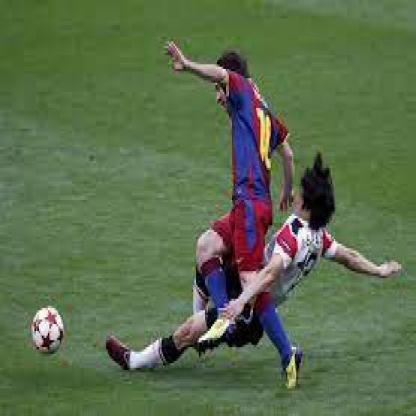Fall_Down: (108, 158, 405, 370)
